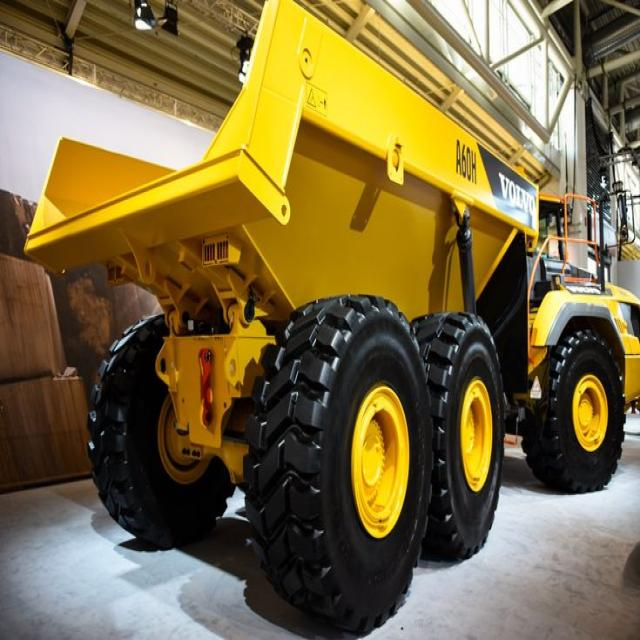dump_truck: (28, 0, 639, 630)
